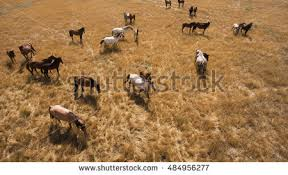sheep: (48, 104, 86, 135), (124, 70, 160, 97), (72, 73, 104, 96), (98, 32, 125, 52), (194, 47, 209, 77), (42, 57, 64, 77), (17, 42, 36, 59), (66, 26, 86, 41), (195, 19, 212, 34), (182, 17, 194, 36), (230, 22, 245, 37), (123, 10, 137, 25), (5, 48, 18, 63), (132, 25, 141, 43), (245, 19, 254, 34)
